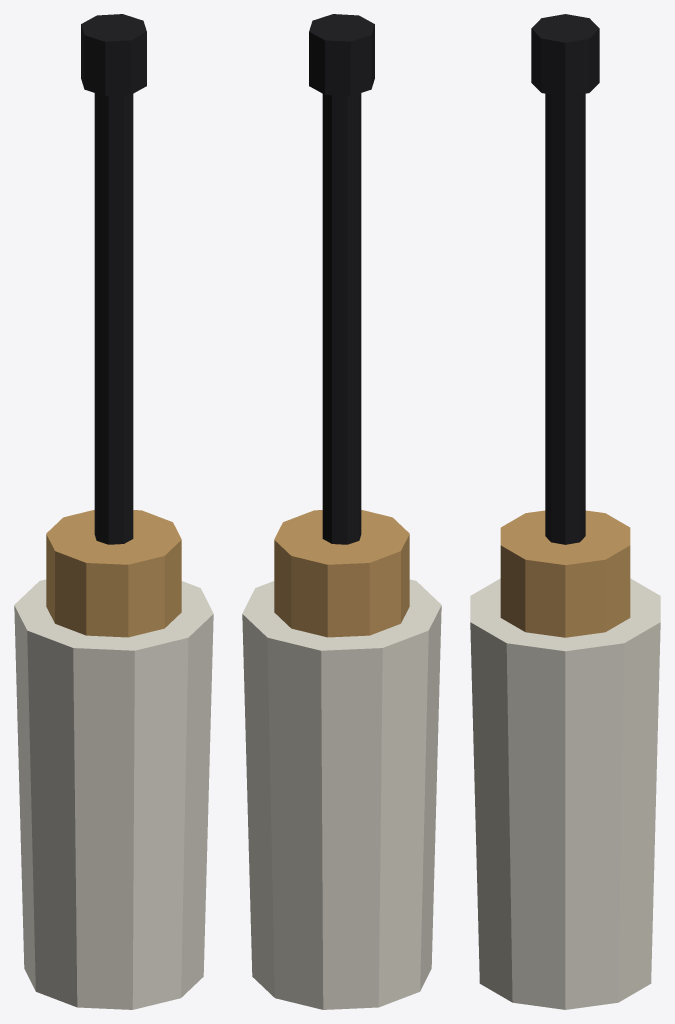
Rendered from GT_ToiletBrush_01.glb.
3 renders of one model, left to right at view 1: azimuth 30°, elevation 25°; view 2: azimuth 150°, elevation 25°; view 3: azimuth 270°, elevation 25°, orthographic.
Visible parts, largest first — view 1: GT_ToiletBrush_01; view 2: GT_ToiletBrush_01; view 3: GT_ToiletBrush_01.
Part boxes in pixels (left/top/right/bottom): GT_ToiletBrush_01: left=14, top=14, right=213, bottom=1009; GT_ToiletBrush_01: left=242, top=14, right=441, bottom=1009; GT_ToiletBrush_01: left=470, top=14, right=660, bottom=1009.
Bounding box in the file's own units: 0.1 × 0.52 × 0.0951.
1 material, 1 textured.
